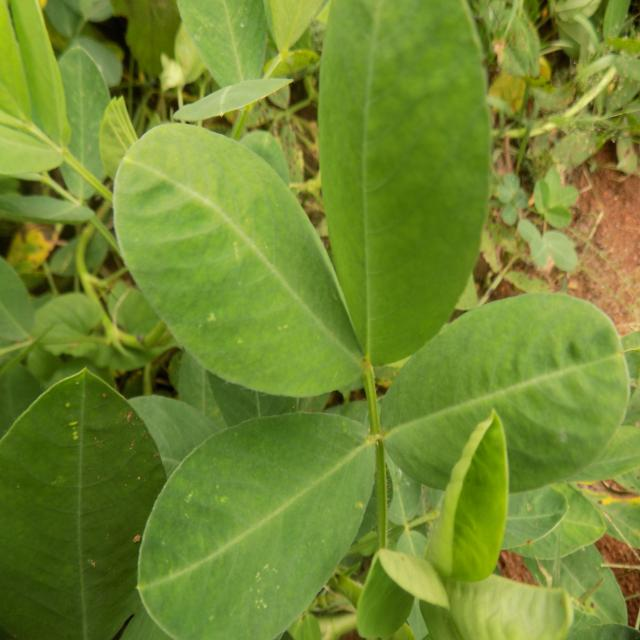Ground nut_healthy: (115, 122, 353, 396), (318, 2, 489, 369), (136, 416, 376, 636), (382, 292, 624, 494), (0, 369, 165, 640)
